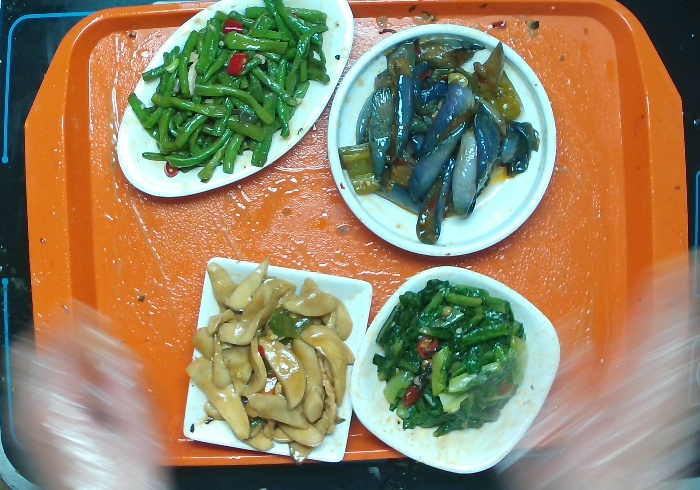HZYJPL-Si_Fang_Die: (182, 253, 376, 465)
HZYJPL-Si_Fang_Yuan_Die: (350, 267, 565, 490)
HZYJPL-Xiao_Yu_Die: (113, 1, 352, 206)
HZYJPL-Xiao_Yuan_Die: (321, 18, 558, 255)
